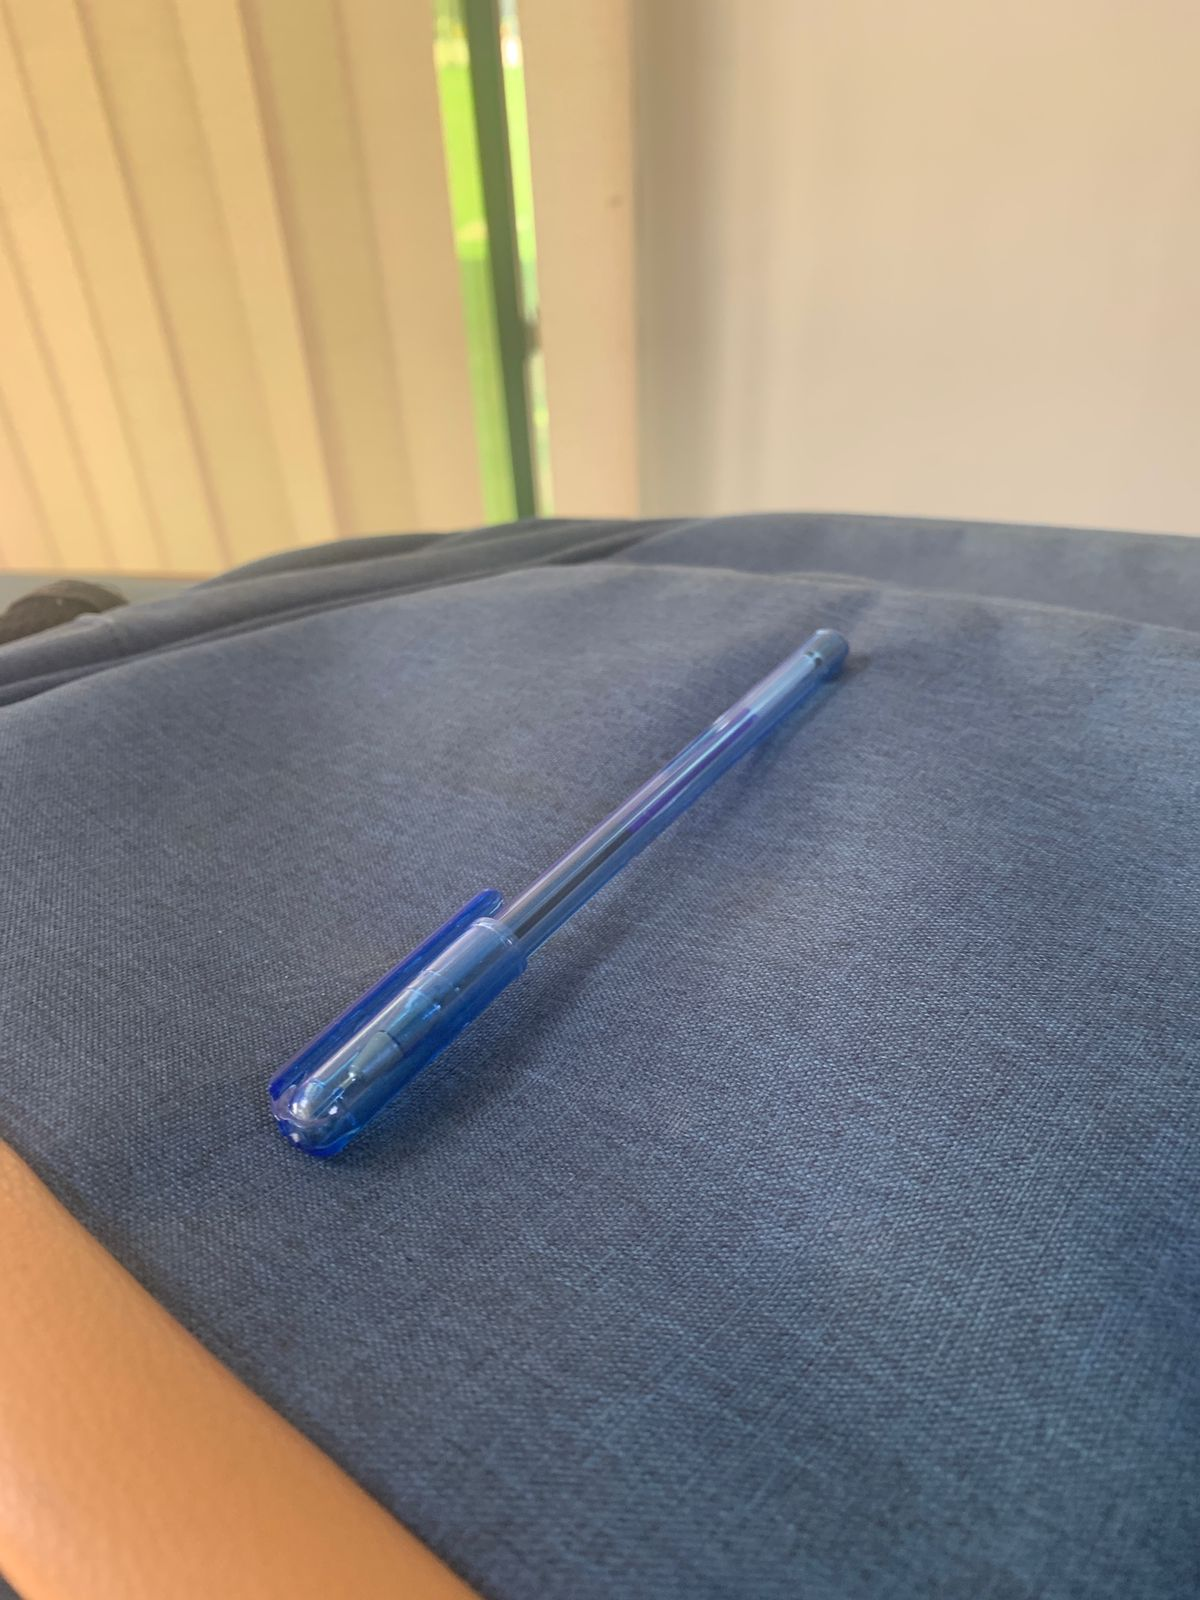pen: (165, 520, 930, 1311)
